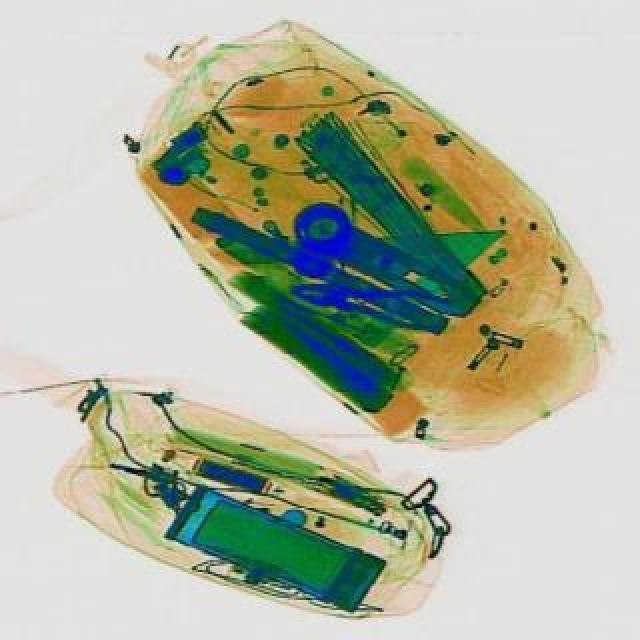wrench: (284, 266, 454, 334)
